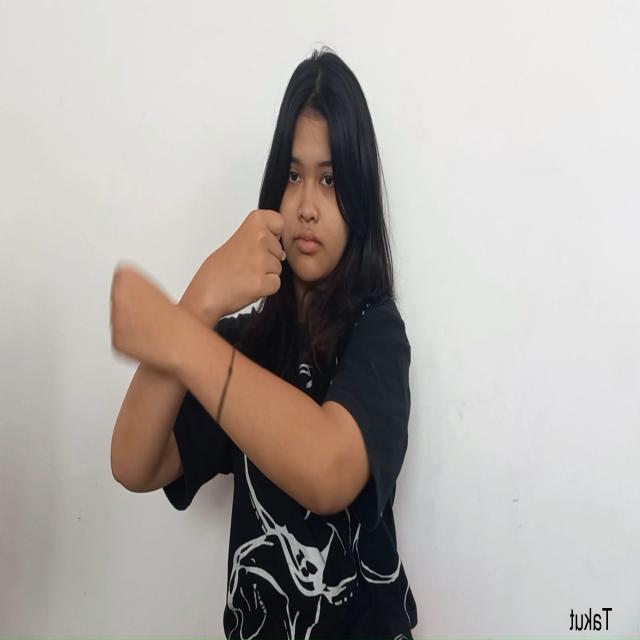Takut -BISINDO-: (108, 206, 288, 393)
